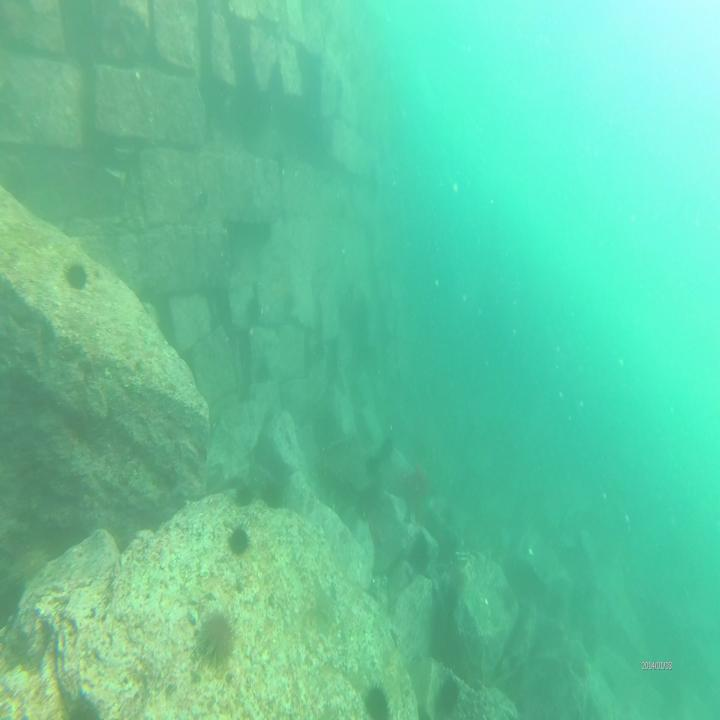echinus: (194, 605, 241, 674), (361, 674, 396, 720), (406, 532, 434, 584), (435, 669, 463, 720), (262, 476, 288, 518), (226, 523, 253, 561), (63, 258, 91, 294), (68, 693, 102, 720), (232, 480, 256, 509), (378, 430, 396, 468), (280, 288, 298, 324), (250, 359, 272, 386), (354, 492, 373, 523), (243, 291, 260, 324)
